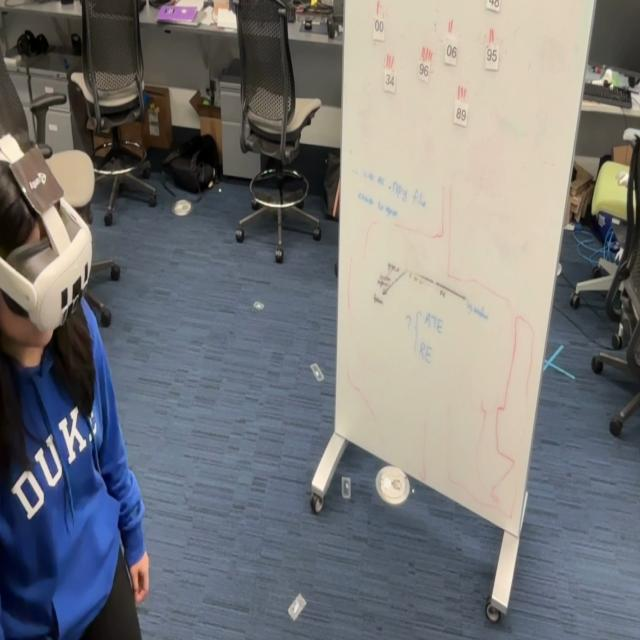Headset: (0, 130, 94, 333)
UnityLogo: (8, 140, 65, 219)
